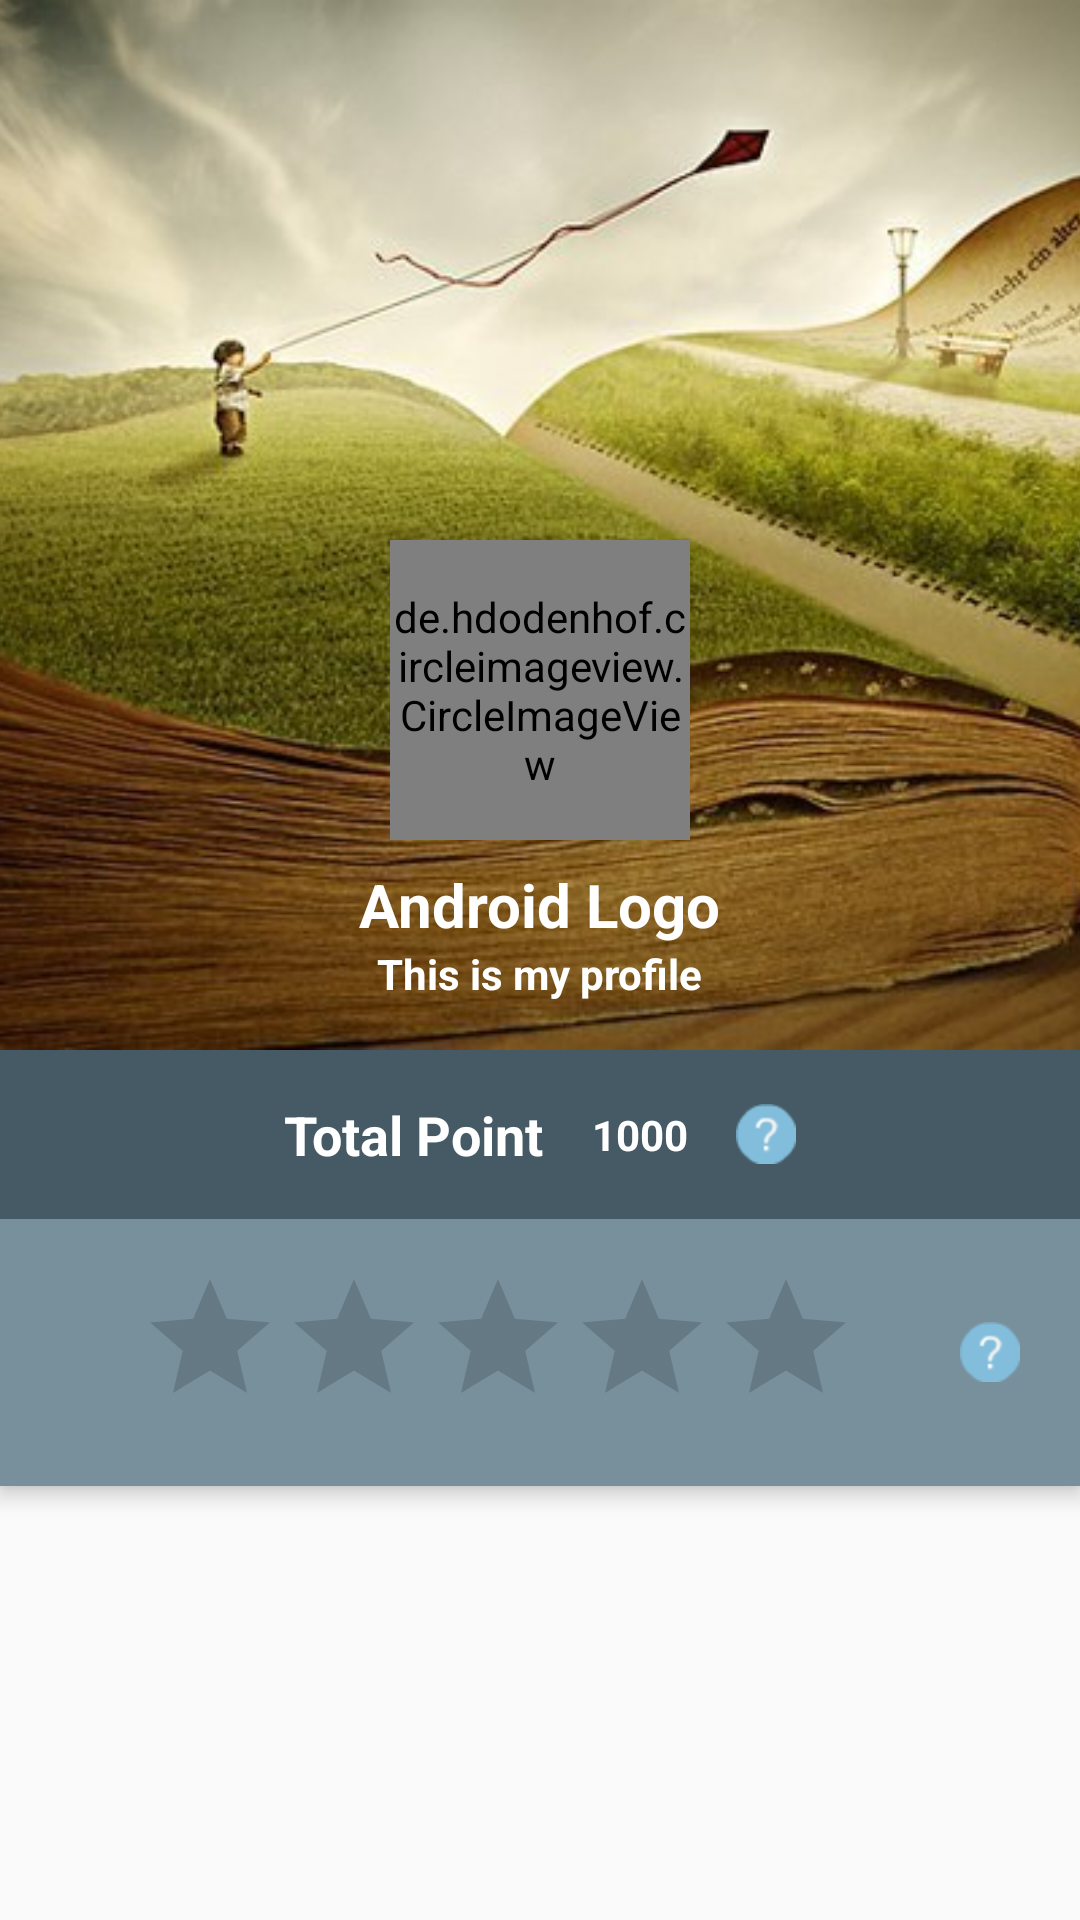

Screen size 1080 x 1920. Icon name, then its box in pixels as (x1, y1, x2, y2):
help: (736, 1104, 796, 1164), (960, 1322, 1020, 1382)
